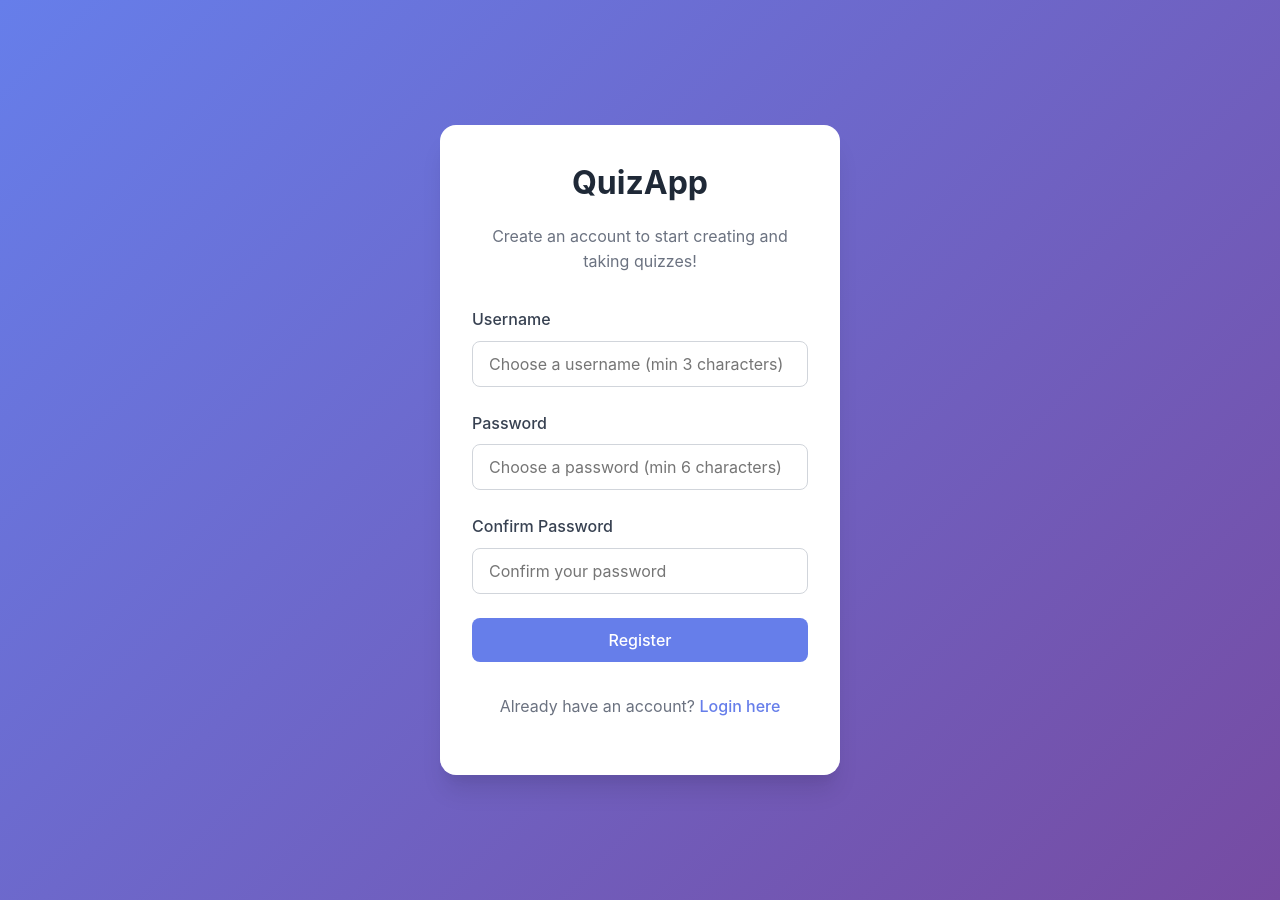
it: Register › shows error when username is too short
This screenshot has width=1280, height=900.
Type "ab" into the field labelled "Username" at (640, 364), box [472,341,808,387]
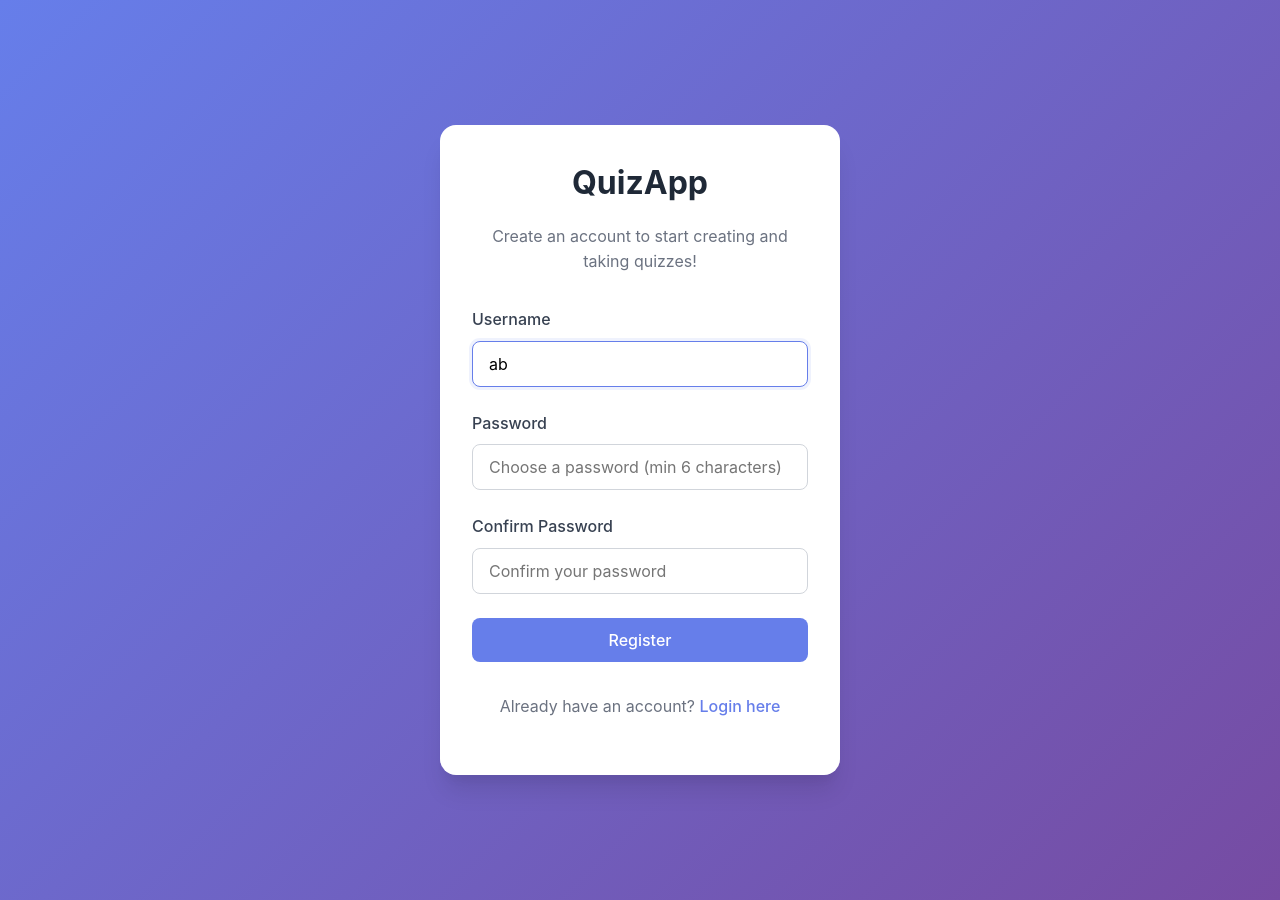
Click the button "Register" at (640, 640), box [472,618,808,662]
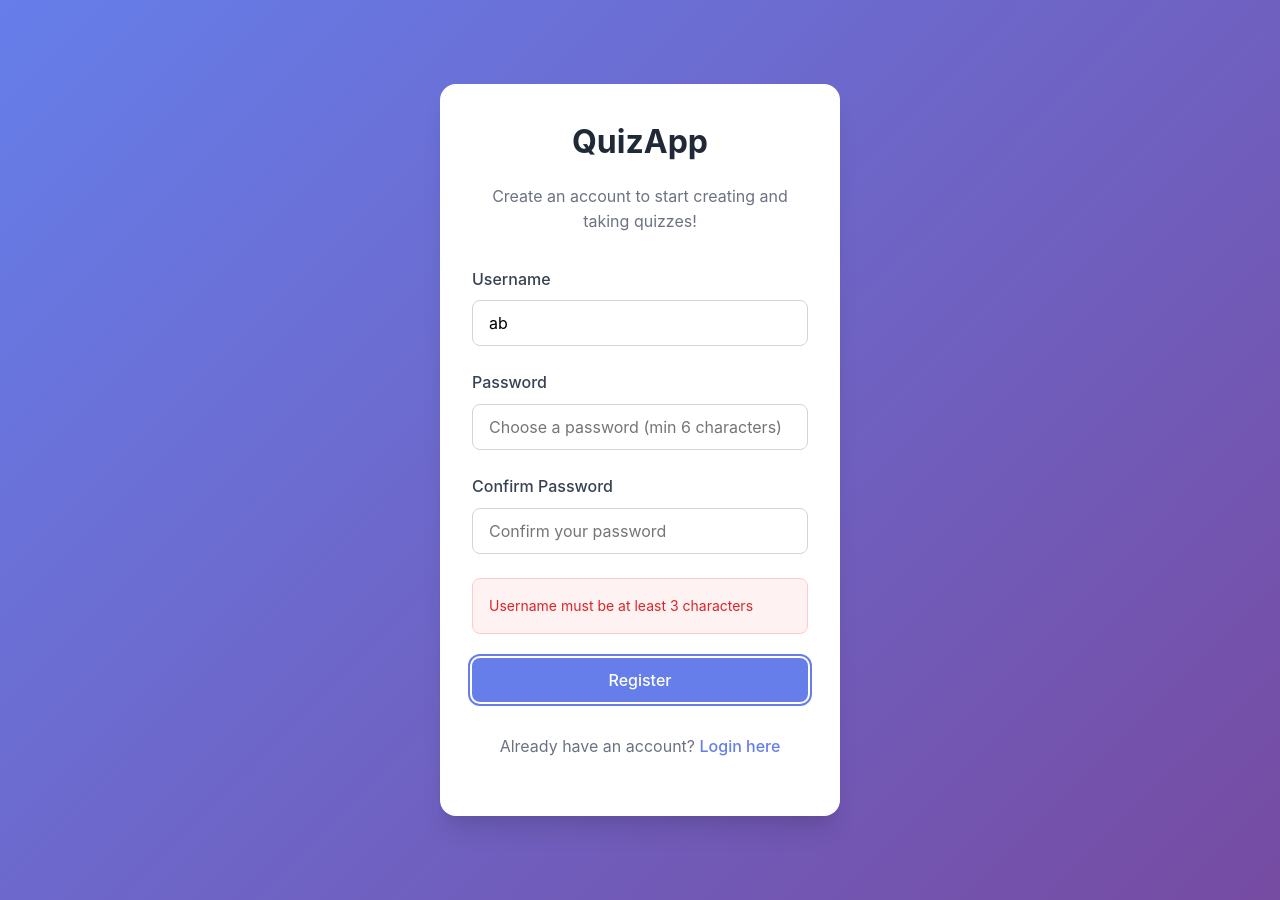
Check: the message reads "Username must be at least 3 characters", box [489,597,753,614]
